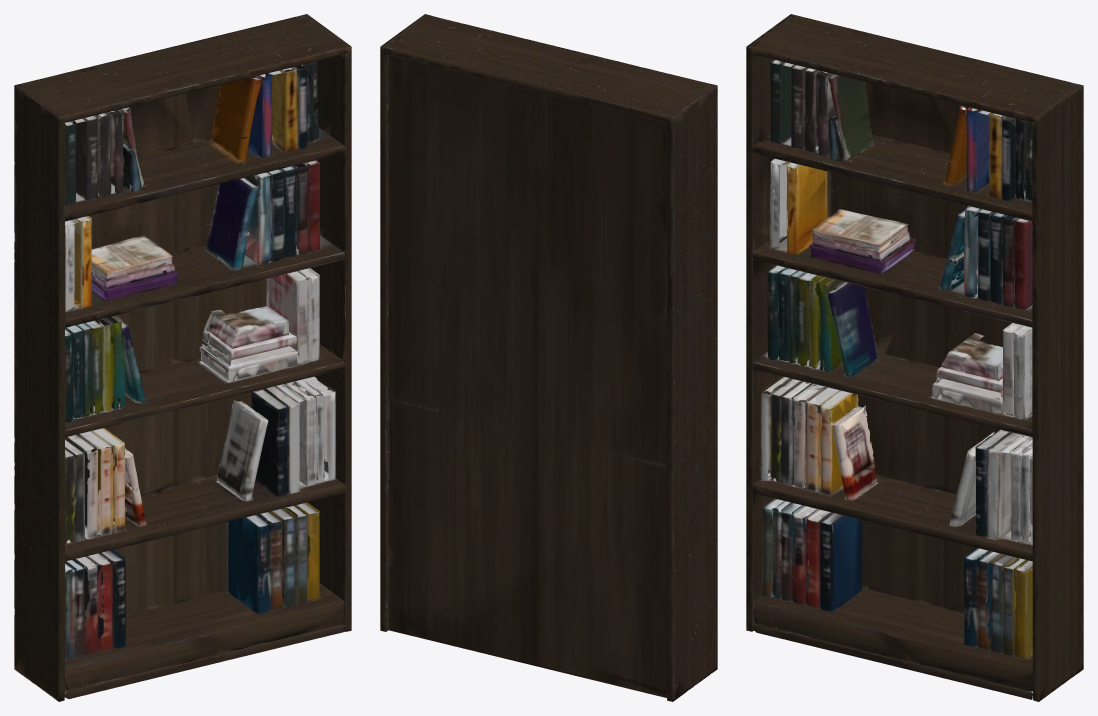
File: bookshelf.glb
3 views of the same model, side by side, from view 1: azimuth 30°, elevation 25°; view 2: azimuth 150°, elevation 25°; view 3: azimuth 330°, elevation 25° (orthographic).
Parts seen in each view (by area): view 1: geometry_0; view 2: geometry_0; view 3: geometry_0.
Boxes of the visible parts, <box> form: geometry_0: <box>14,14,351,701</box>; geometry_0: <box>380,14,717,701</box>; geometry_0: <box>746,14,1083,701</box>.
Bounding box in the file's own units: 0.9972 × 1.9 × 0.265.
Materials: 1 (1 with a texture image).
